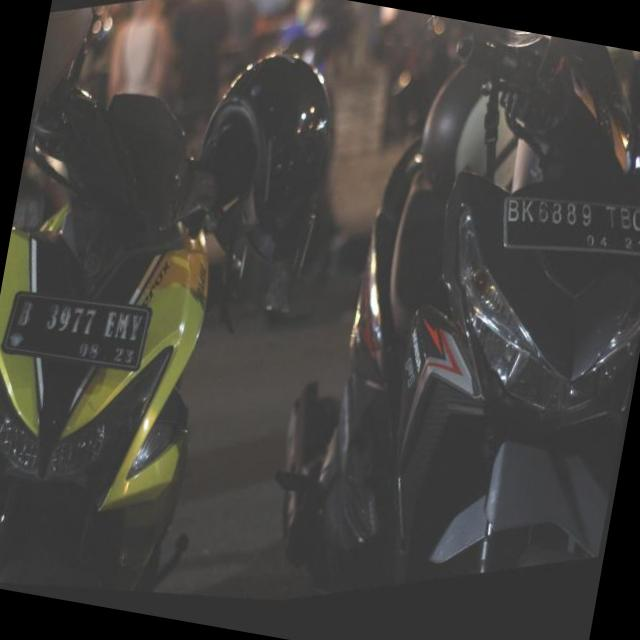plate: (0, 288, 153, 374), (501, 190, 640, 256)
